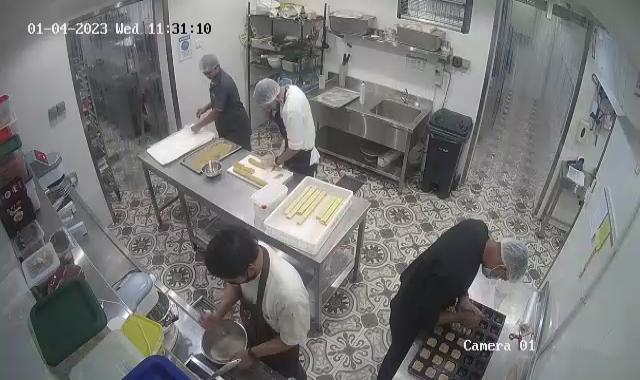hairnet: (496, 236, 530, 282), (253, 79, 283, 106), (199, 53, 222, 75)
no_hairnet: (204, 226, 263, 275)
